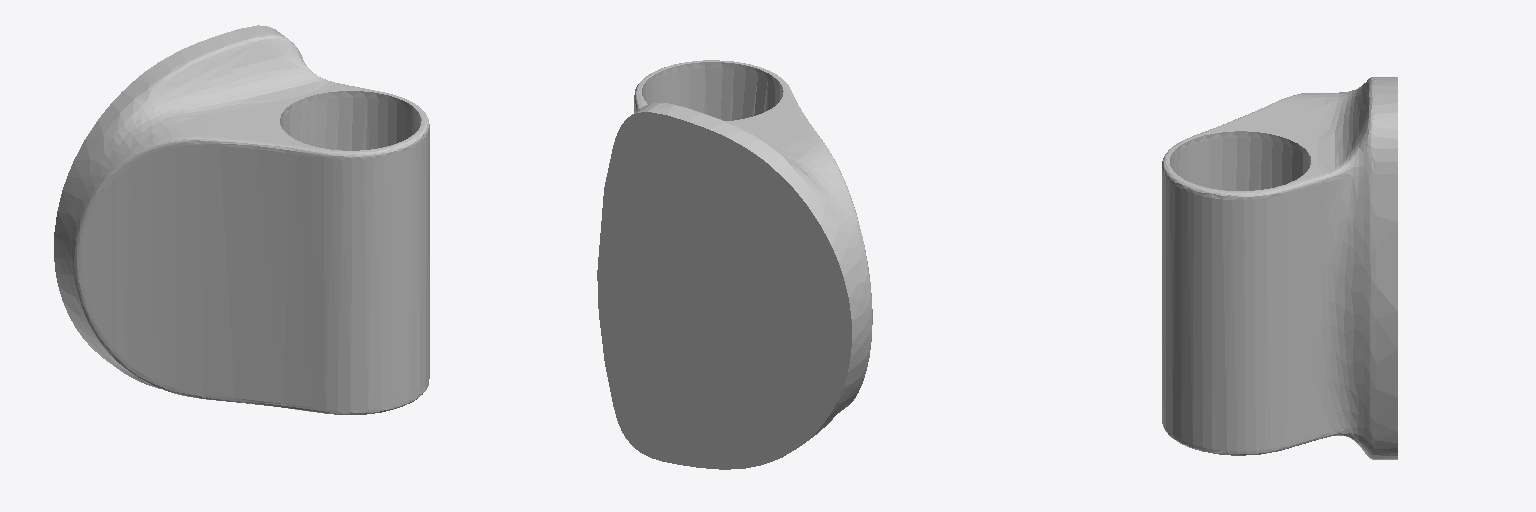
Rendered from head_pan.obj.
3 views of the same model, side by side, from view 1: azimuth 30°, elevation 25°; view 2: azimuth 150°, elevation 25°; view 3: azimuth 270°, elevation 25° (orthographic).
Bounding box in the file's own units: 0.105 × 0.1218 × 0.0749.